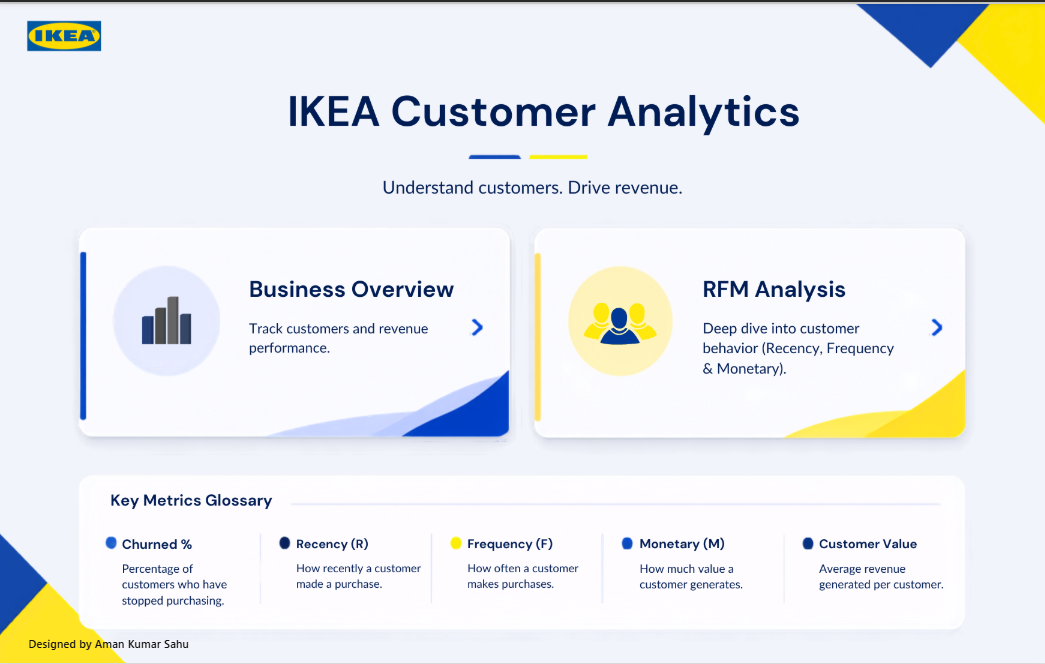

Layout of this report page (visuals, bound fields, positions):
{"tool":"powerbi","page":{"name":"Home","canvas":[1750,1100],"ordinal":0},"visuals":[{"type":"textbox","box":[51.4,1053.6,592.9,36.4],"z":13000},{"type":"image","box":[0,0,224.4,106.7],"z":14000},{"type":"actionButton","box":[137.1,373.8,719,349.2],"z":14001},{"type":"actionButton","box":[895.9,373.6,719,349.2],"z":14002}]}

Visuals, with their boxes in screenshot pixels (x1, y1, x2, y2), scaled from the page's 1750x1100 canvas onto the 1045x664 screenshot:
textbox: select_region(31, 636, 385, 658)
image: select_region(0, 0, 134, 64)
actionButton: select_region(82, 226, 511, 436)
actionButton: select_region(535, 226, 964, 436)
